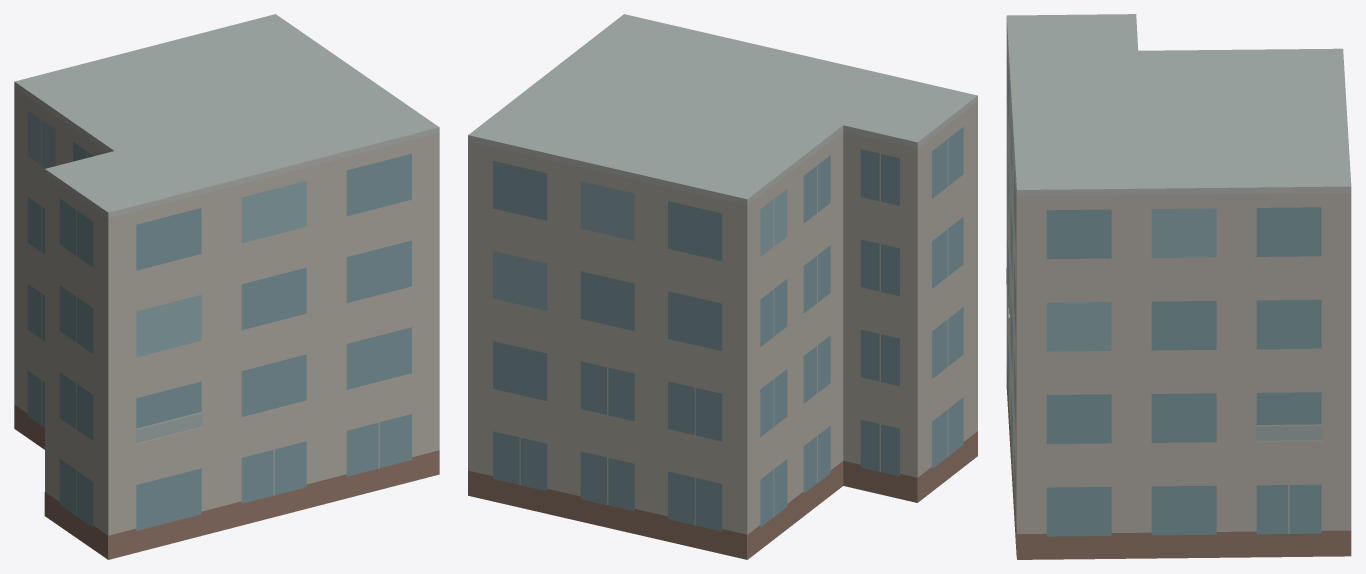
The model's file is survey-upis-32800702.glb.
3 renders of one model, left to right at view 1: azimuth 30°, elevation 25°; view 2: azimuth 150°, elevation 25°; view 3: azimuth 270°, elevation 25°, orthographic. The views are drawn at different scales.
Parts seen in each view (by area): view 1: survey-upis-32800702.tmp; view 2: survey-upis-32800702.tmp; view 3: survey-upis-32800702.tmp.
Boxes of the visible parts, x1,y1,x2,y2 form: survey-upis-32800702.tmp: (14,14,439,559); survey-upis-32800702.tmp: (468,14,977,559); survey-upis-32800702.tmp: (1006,14,1351,559).
Bounding box in the file's own units: 14.91 × 14.6 × 12.35.
